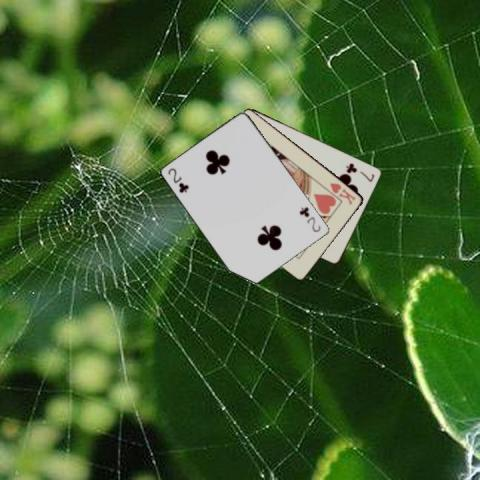2c: (296, 204, 322, 234), (165, 165, 191, 195)
7c: (343, 160, 376, 183)
Kh: (327, 180, 357, 206)
